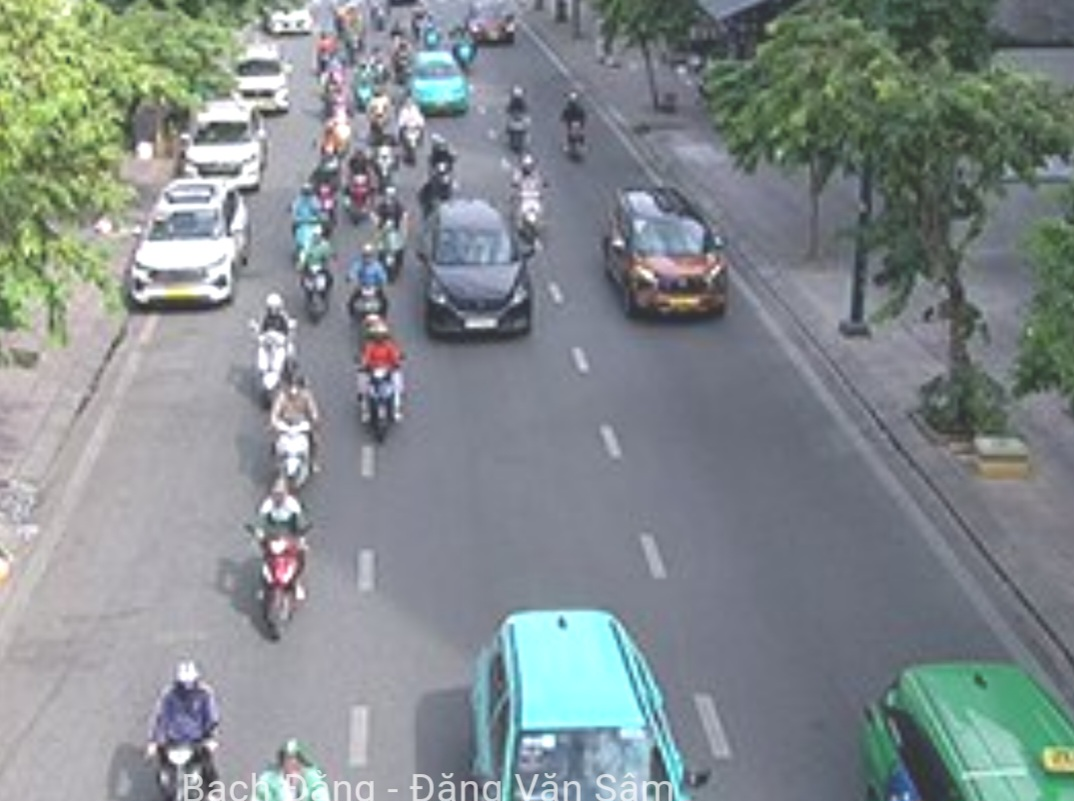car: (457, 610, 687, 801), (877, 658, 1072, 801), (414, 200, 536, 343), (602, 187, 732, 320), (127, 173, 250, 301), (184, 101, 263, 186), (408, 49, 468, 117), (235, 44, 290, 108), (463, 1, 520, 44)
